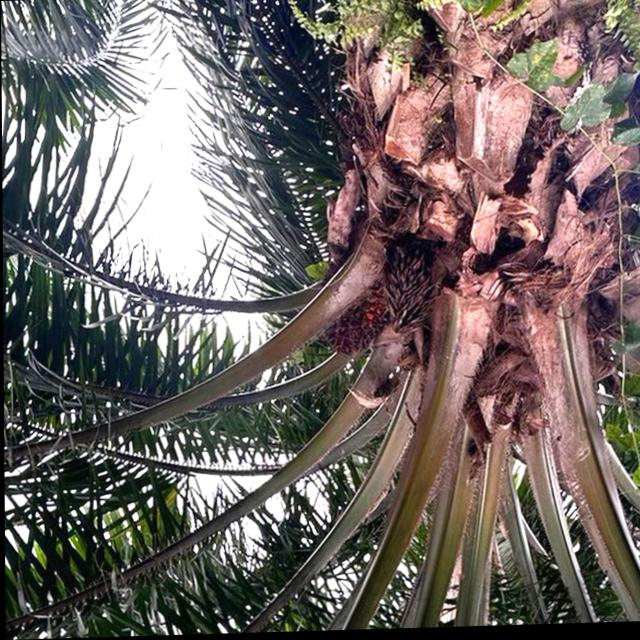ripe: (316, 282, 397, 367)
